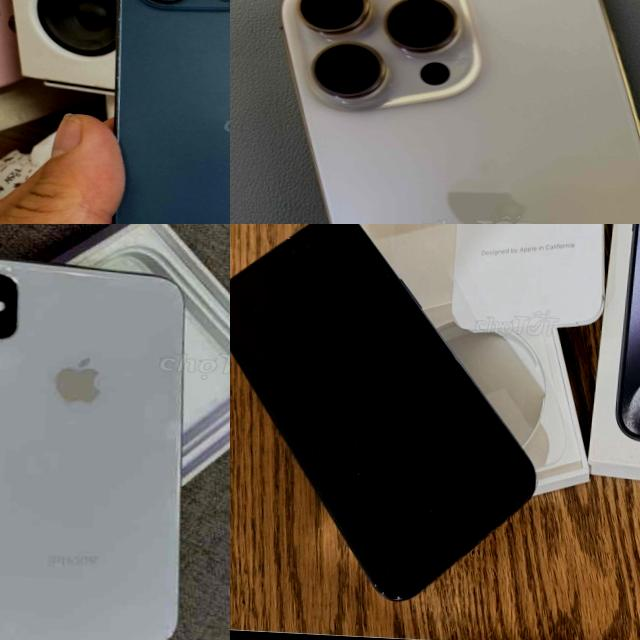gen_12_13: (95, 0, 230, 224)
gen_15: (230, 224, 554, 628)
gen_16: (281, 0, 640, 224)
gen_x_xs: (0, 253, 217, 640)
